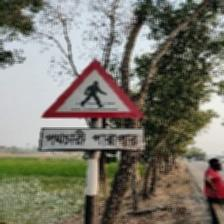Pedestrian-crossing: (39, 58, 146, 153)
